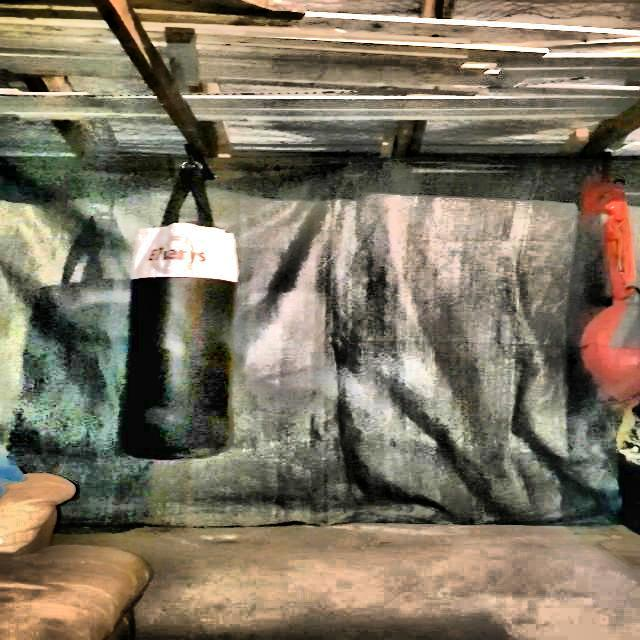boxing-bag: (119, 137, 238, 467)
